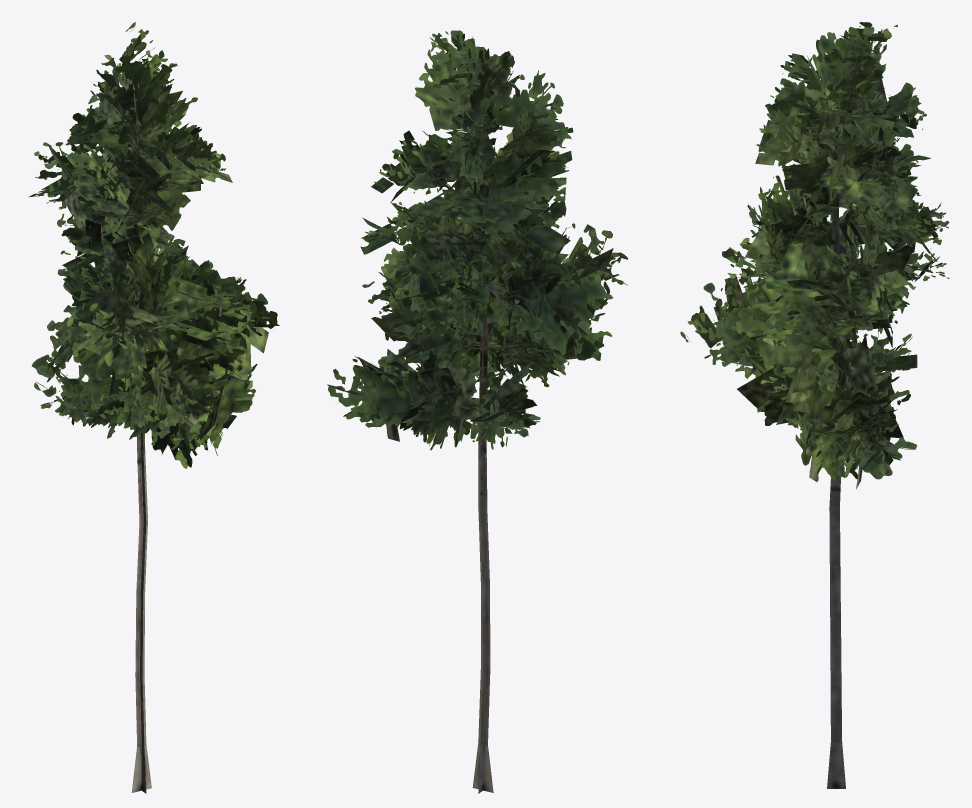
The picture shows the model from 3 angles, left to right: view 1: azimuth 30°, elevation 25°; view 2: azimuth 150°, elevation 25°; view 3: azimuth 270°, elevation 25°; orthographic projection. The views are drawn at different scales.
Visible parts, largest first — view 1: El_high2; view 2: El_high2; view 3: El_high2.
Boxes of the visible parts, x1=… form: El_high2: x1=28, y1=22, x2=279, y2=793; El_high2: x1=327, y1=30, x2=627, y2=793; El_high2: x1=680, y1=22, x2=949, y2=788.
Bounding box in the file's own units: 478 × 1270 × 421.
